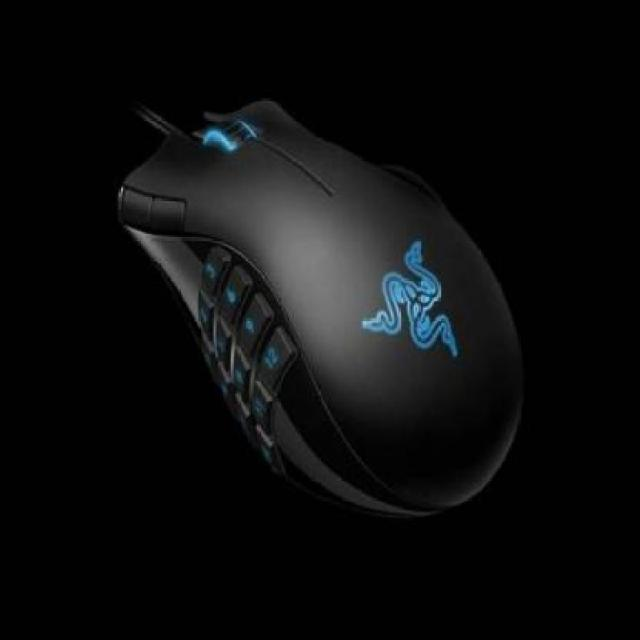mouse: (108, 94, 530, 528)
